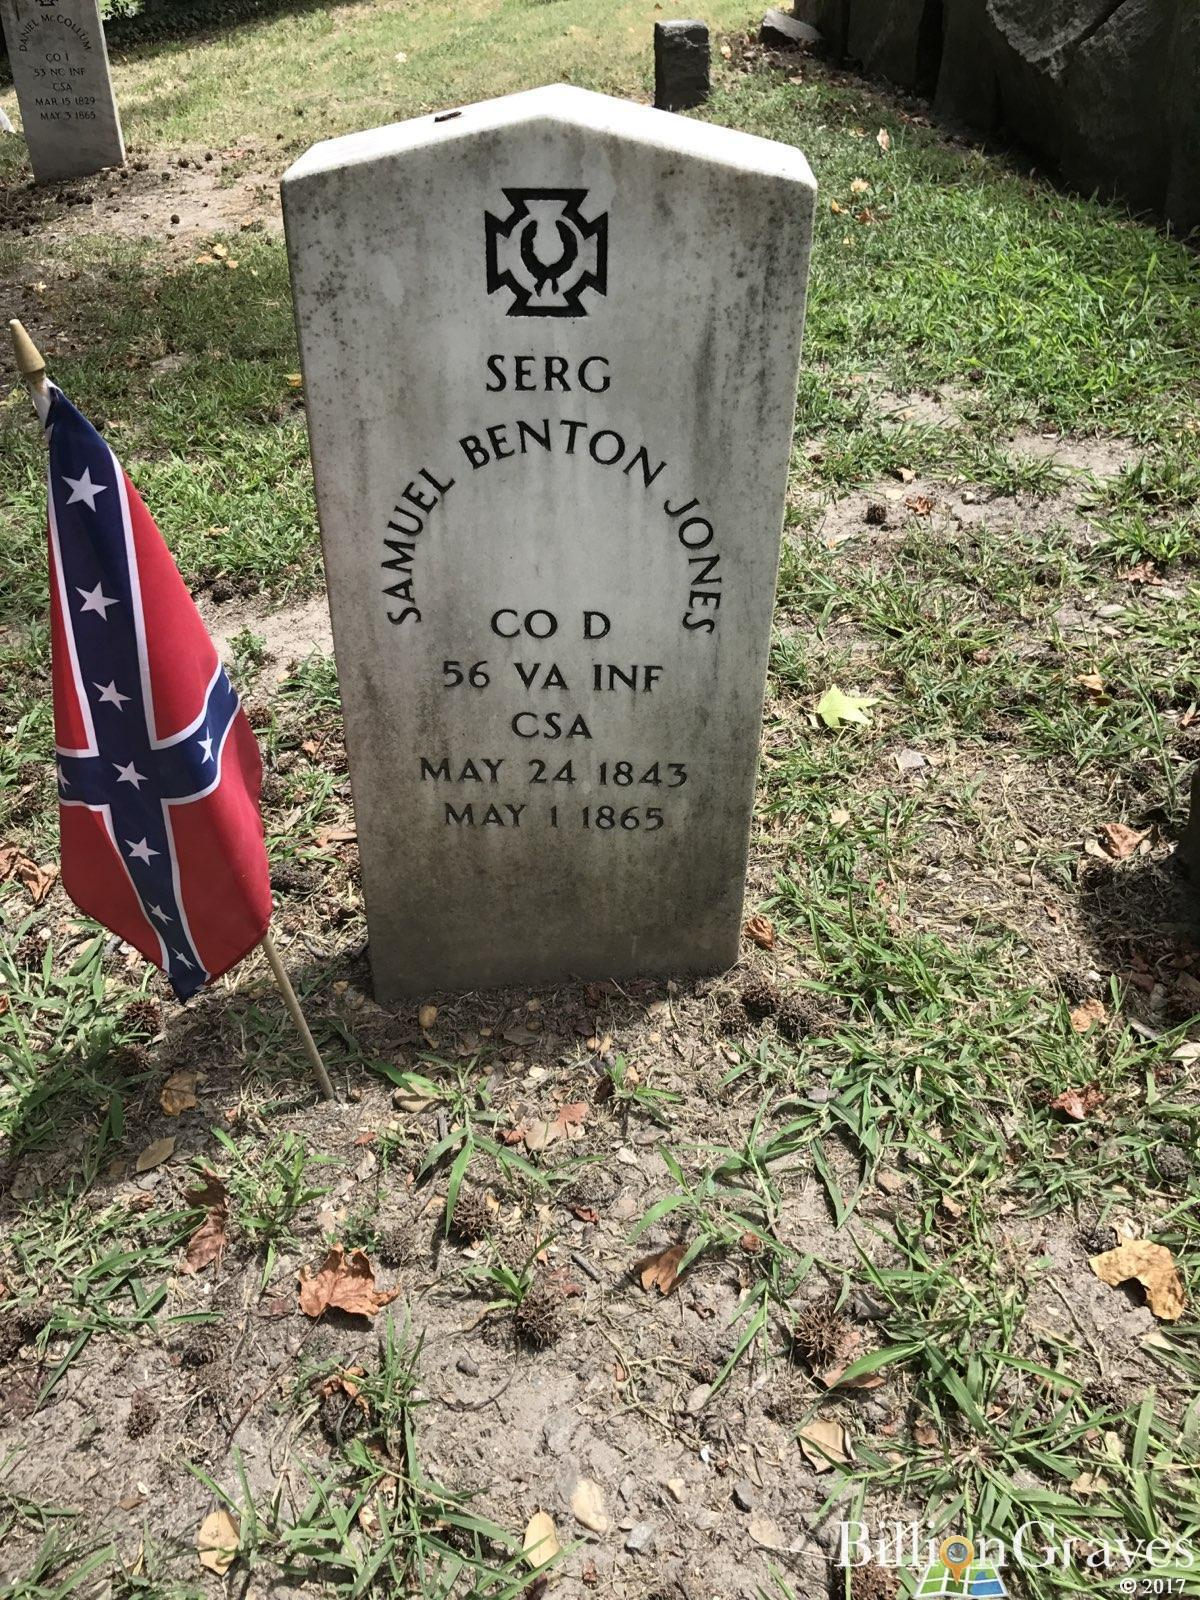military: (275, 83, 816, 980)
